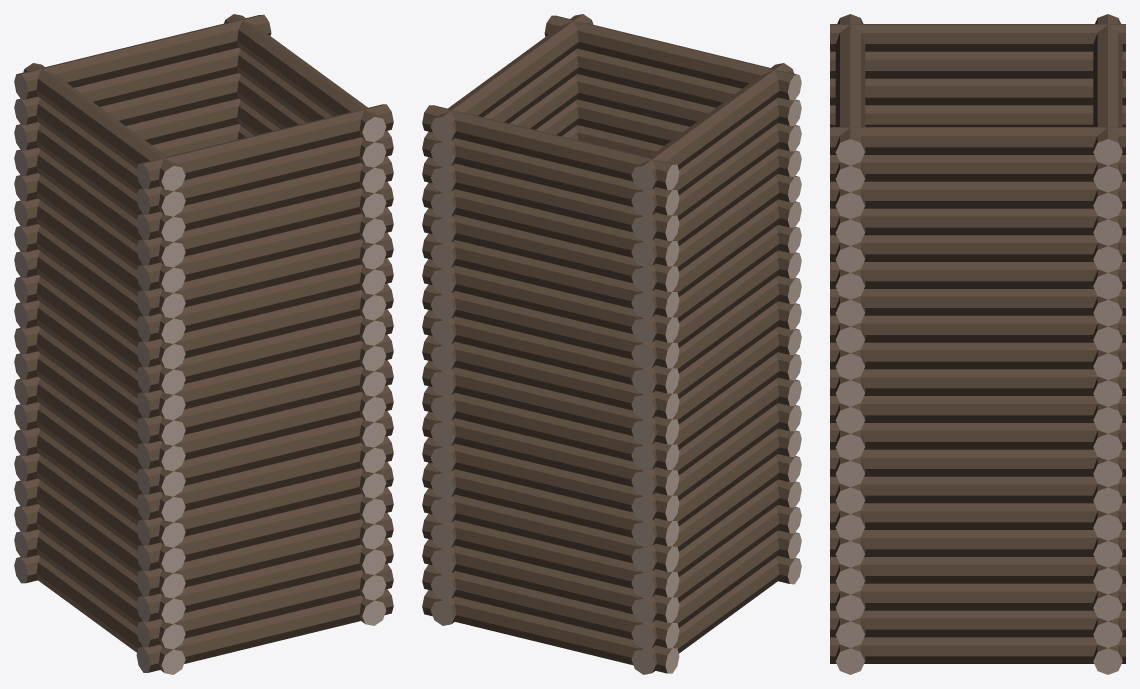
File: WoodenTower.fbx
The picture shows the model from 3 angles, left to right: view 1: azimuth 30°, elevation 25°; view 2: azimuth 150°, elevation 25°; view 3: azimuth 270°, elevation 25°; orthographic projection. The views are drawn at different scales.
Parts seen in each view (by area): view 1: WoodenTower; view 2: WoodenTower; view 3: WoodenTower.
Boxes of the visible parts, <box> form: WoodenTower: <box>14,14,393,674</box>; WoodenTower: <box>422,14,801,674</box>; WoodenTower: <box>830,14,1125,674</box>.
Size of the model in its own units: 4 by 8 by 4.
